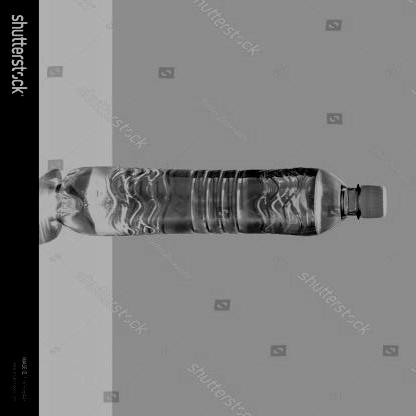bottle: (49, 160, 400, 242)
